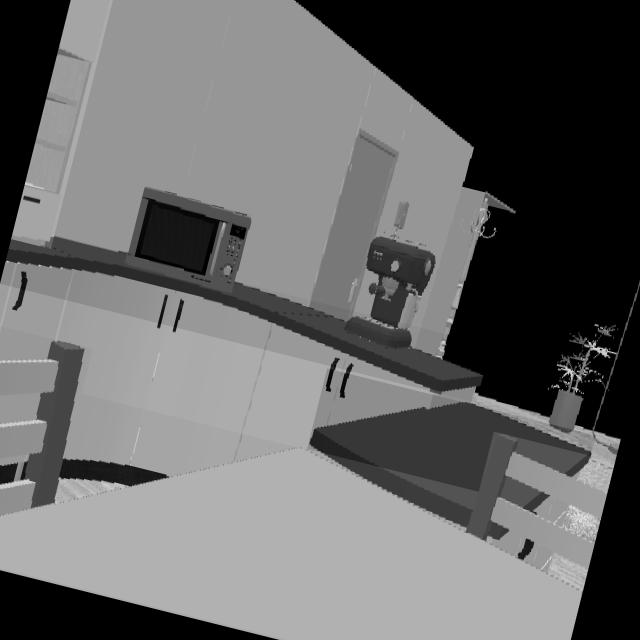cabinet: (0, 265, 435, 479), (10, 0, 111, 244)
chair: (468, 436, 606, 592), (0, 342, 83, 517)
countertop: (4, 237, 481, 391), (308, 402, 589, 513)
microwave: (129, 189, 250, 291)
table: (0, 448, 580, 640)
